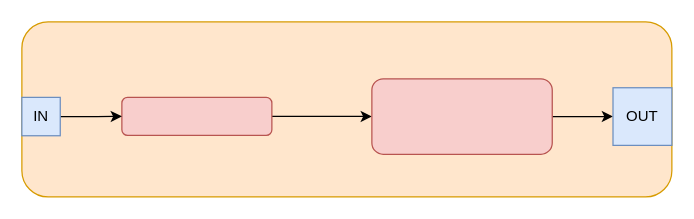
This 694x219 diagram has some shape labels left out. Here are the shapes that lost their labels. From the top down, the box of each, then its label:
(121, 96, 272, 135): CIC DECIMATOR
(371, 78, 552, 154): FIR COMPENSATION FILTER
